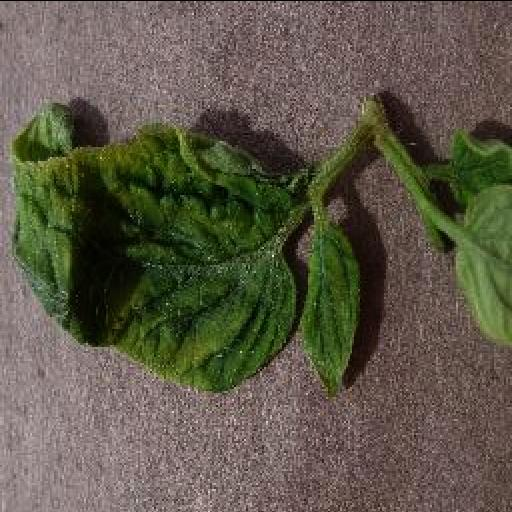disease_tomato: (7, 103, 297, 397), (302, 220, 360, 390)
